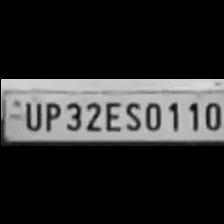0: (140, 96, 164, 130), (200, 96, 222, 130)
1: (162, 98, 182, 132), (182, 98, 200, 132)
2: (82, 97, 100, 131)
3: (61, 97, 81, 131)
E: (102, 97, 120, 131)
P: (40, 98, 60, 132)
S: (121, 96, 141, 130)
U: (18, 96, 42, 130)
